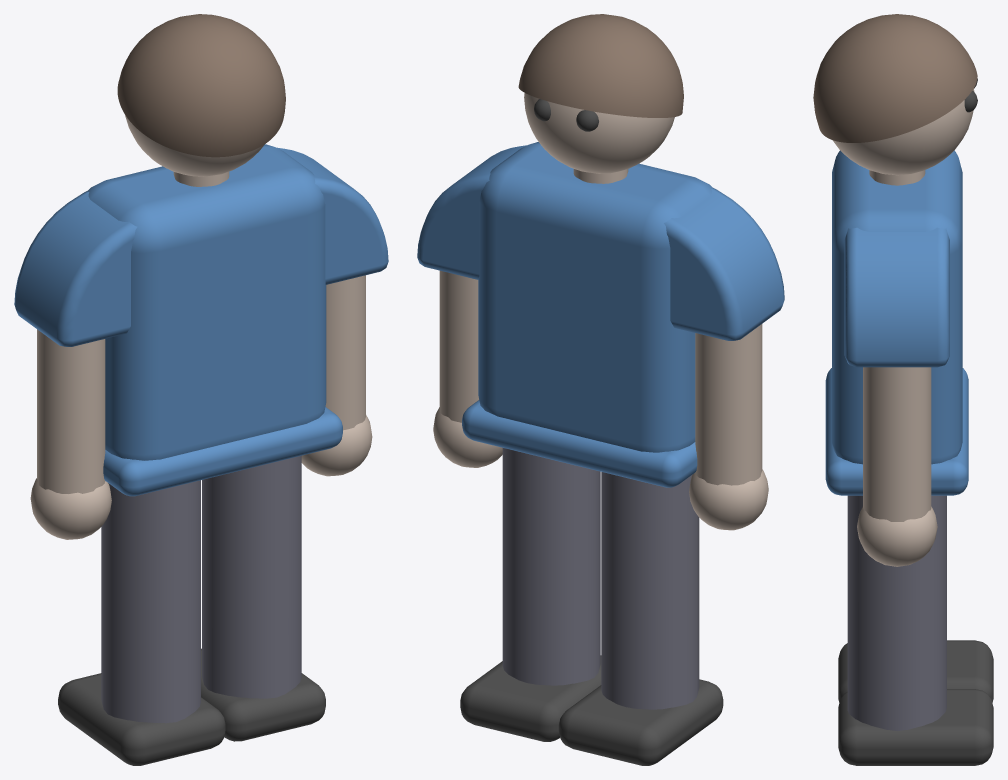
3 renders of one model, left to right at view 1: azimuth 30°, elevation 25°; view 2: azimuth 150°, elevation 25°; view 3: azimuth 270°, elevation 25°, orthographic.
Visible parts, largest first — view 1: geometry_0; view 2: geometry_0; view 3: geometry_0.
Part boxes in pixels (box(x1,y1,x2,y2)): geometry_0: box(14, 14, 388, 765); geometry_0: box(417, 14, 784, 765); geometry_0: box(813, 14, 993, 765).
Bounding box in the file's own units: 1.22 × 2.49 × 0.58.
